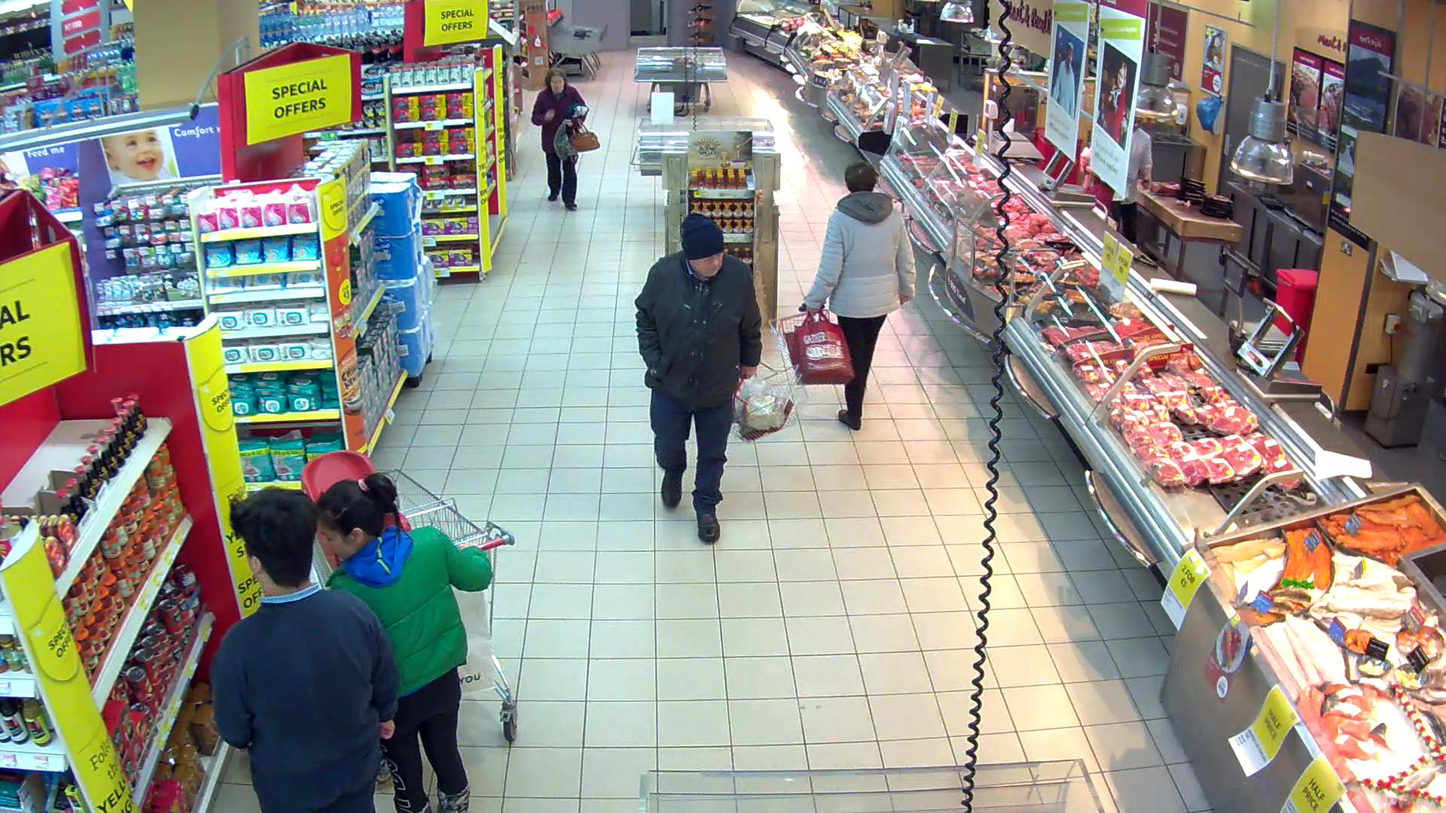backpack-or-handbag: (571, 128, 600, 153)
carrying-item: (566, 100, 588, 121)
filled-basket: (727, 356, 805, 443)
filled-shopping-bags: (446, 581, 495, 696), (790, 318, 856, 385)
filled-trolly: (294, 468, 516, 744)
person: (315, 474, 493, 813), (636, 211, 763, 543), (806, 162, 917, 431)
person-with-backpack-handbag-and-carrying-item-s-: (532, 67, 600, 208)
person-with-filled-basket-trolly: (635, 212, 807, 544)
person-with-filled-shopping-bag-s-: (785, 161, 917, 429)
